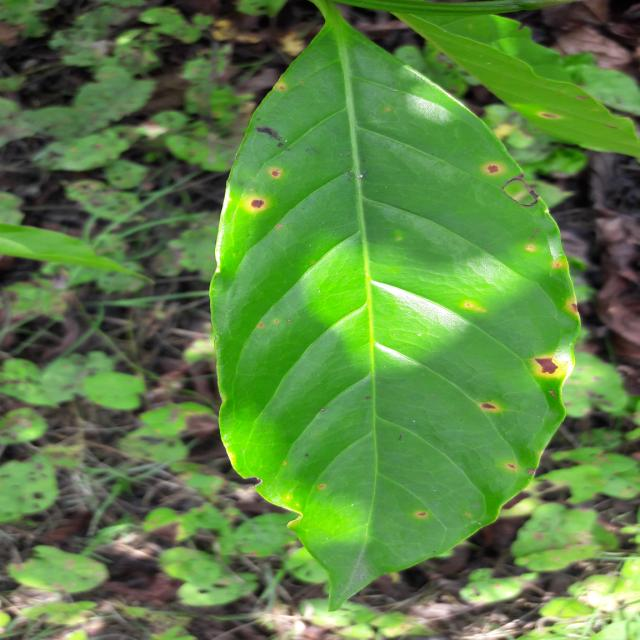Enfermedad-Roya: (208, 0, 577, 611)
